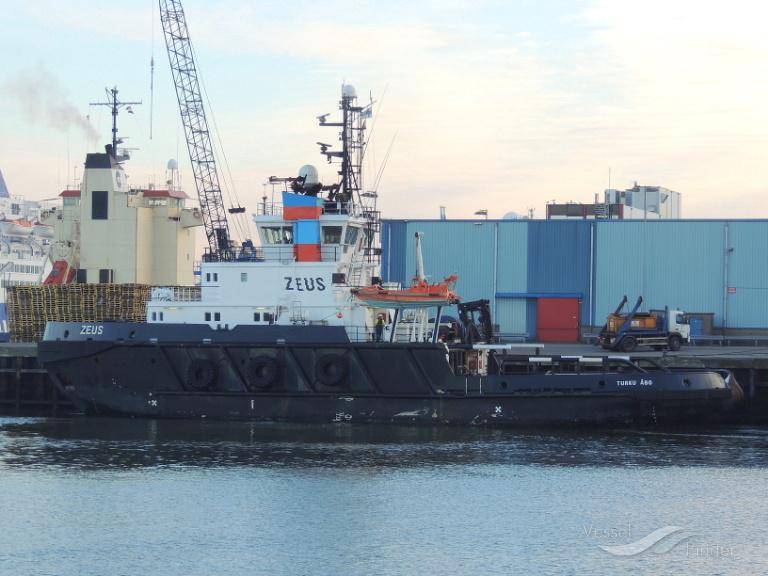OCR: (275, 271, 331, 294)
